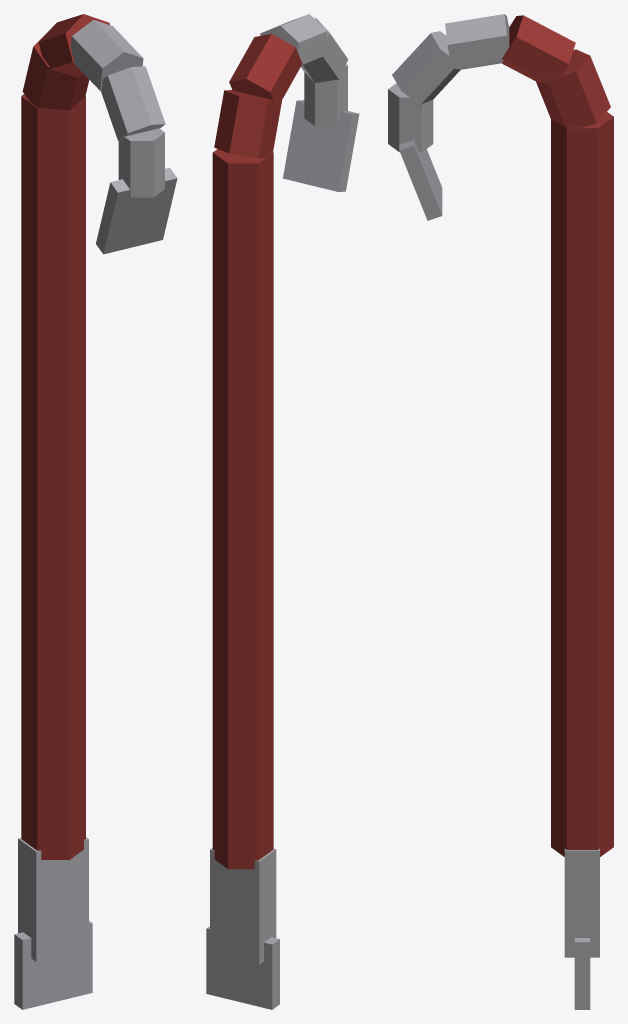
The model's file is Crowbar.fbx.
3 views of the same model, side by side, from view 1: azimuth 30°, elevation 25°; view 2: azimuth 150°, elevation 25°; view 3: azimuth 270°, elevation 25° (orthographic). The views are drawn at different scales.
Visible parts, largest first — view 1: Crowbar; view 2: Crowbar; view 3: Crowbar.
Boxes of the visible parts, box(x1,y1,x2,y2) form: Crowbar: box(14, 14, 177, 1009); Crowbar: box(206, 14, 359, 1009); Crowbar: box(388, 14, 613, 1009).
Size of the model in its own units: 0.04 by 0.5496 by 0.1148.
